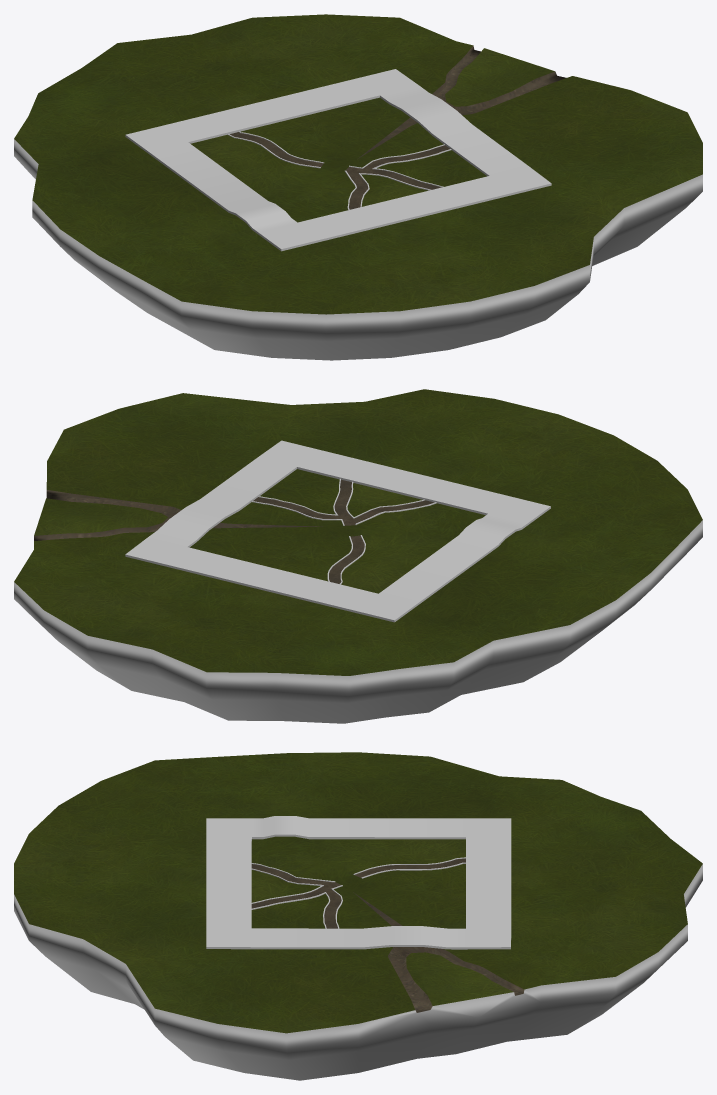
File: WorldDisk.fbx
3 renders of one model, top to bottom at view 1: azimuth 30°, elevation 25°; view 2: azimuth 150°, elevation 25°; view 3: azimuth 270°, elevation 25°, orthographic. The views are drawn at different scales.
Parts seen in each view (by area): view 1: Island, Road1, pPlane1, pPlane2, pPlane3, pPlane4; view 2: Island, Road1, pPlane1, pPlane3, pPlane2, pPlane4; view 3: Island, Road1, pPlane1, pPlane2, pPlane4, pPlane3.
Part boxes in pixels (x1,y1,x2,y2): Island: (14,14,702,360); Road1: (125,69,551,251); pPlane1: (227,131,324,168); pPlane2: (346,165,443,190); pPlane3: (361,144,451,169); pPlane4: (344,170,369,209); Island: (14,389,702,723); Road1: (125,440,550,622); pPlane1: (327,535,365,584); pPlane3: (251,496,342,520); pPlane2: (333,478,355,525); pPlane4: (353,499,436,524); Island: (14,752,702,1080); Road1: (206,816,511,949); pPlane1: (353,857,465,878); pPlane2: (251,882,342,909); pPlane4: (251,863,335,886); pPlane3: (323,888,342,928).
Size of the model in its own units: 21.76 by 2.83 by 22.54.
